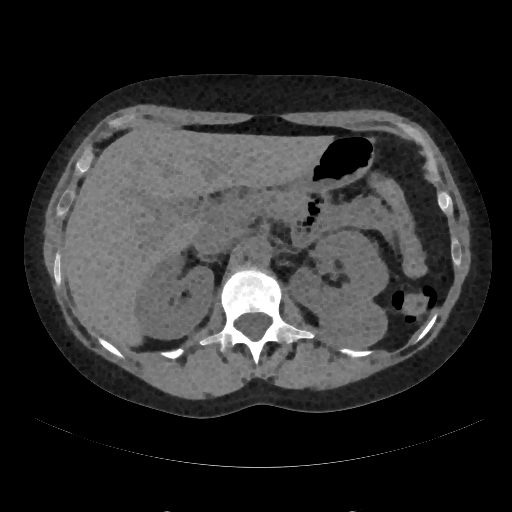Lesion: (312, 290, 390, 356)
